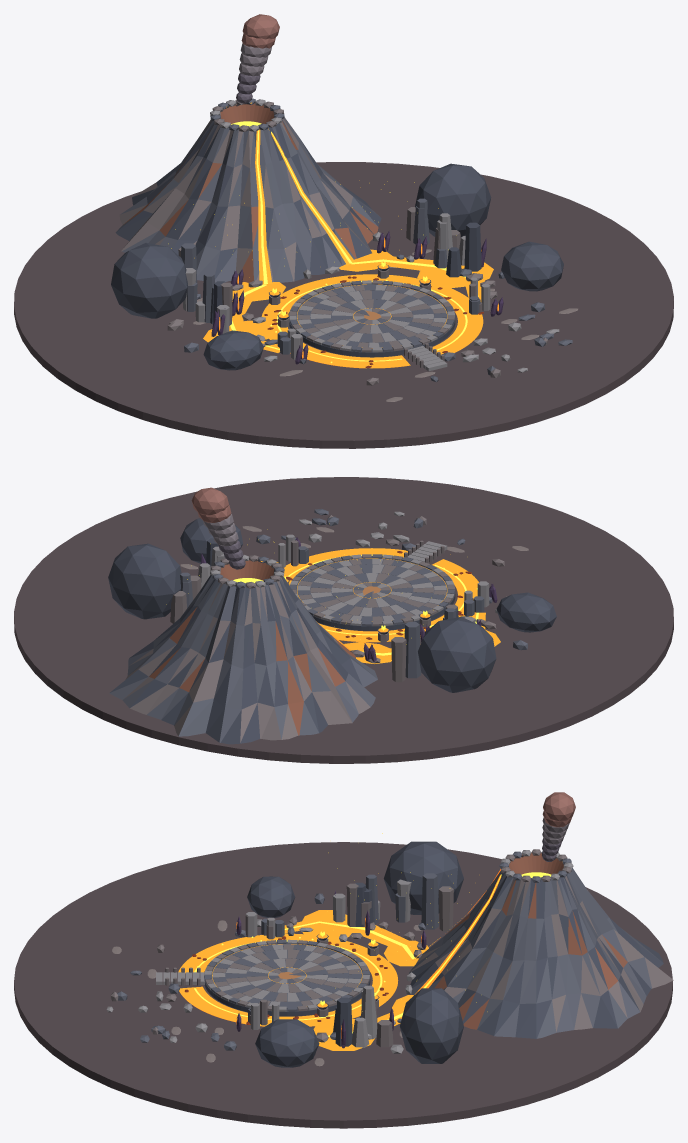
File: volcanic-arena.glb
The picture shows the model from 3 angles, top to bottom: view 1: azimuth 30°, elevation 25°; view 2: azimuth 150°, elevation 25°; view 3: azimuth 270°, elevation 25°; orthographic projection.
Parts seen in each view (by area): view 1: V01 Battlefield | Volcano | Charred earth, V02 Volcano | Volcano | Dark basalt, V04 Basalt formations | Volcano | Obsidian grey, V03 Lava rivers | Volcano | Molten orange, V01 Battlefield | Volcano | Dark basalt, V01 Battlefield | Volcano | Ash slate, V01 Battlefield | Volcano | Warm basalt, V04 Basalt formations | Volcano | Dark basalt, V04 Basalt formations | Volcano | Ash slate, V02 Volcano | Volcano | Molten orange, V05 Obsidian and debris | Volcano | Obsidian glass, V04 Basalt formations | Volcano | Warm basalt (+9 smaller); view 2: V01 Battlefield | Volcano | Charred earth, V02 Volcano | Volcano | Dark basalt, V04 Basalt formations | Volcano | Obsidian grey, V01 Battlefield | Volcano | Dark basalt, V01 Battlefield | Volcano | Ash slate, V01 Battlefield | Volcano | Warm basalt, V03 Lava rivers | Volcano | Molten orange, V04 Basalt formations | Volcano | Dark basalt, V04 Basalt formations | Volcano | Warm basalt, V04 Basalt formations | Volcano | Ash slate, V02 Volcano | Volcano | Smoke glow, V05 Obsidian and debris | Volcano | Dark basalt (+7 smaller); view 3: V01 Battlefield | Volcano | Charred earth, V02 Volcano | Volcano | Dark basalt, V04 Basalt formations | Volcano | Obsidian grey, V03 Lava rivers | Volcano | Molten orange, V01 Battlefield | Volcano | Dark basalt, V01 Battlefield | Volcano | Ash slate, V01 Battlefield | Volcano | Warm basalt, V04 Basalt formations | Volcano | Ash slate, V04 Basalt formations | Volcano | Warm basalt, V04 Basalt formations | Volcano | Dark basalt, V05 Obsidian and debris | Volcano | Dark basalt, V02 Volcano | Volcano | Smoke glow (+8 smaller).
Part boxes in pixels (x1,y1,x2,y2): V01 Battlefield | Volcano | Charred earth: [14, 162, 673, 448]; V02 Volcano | Volcano | Dark basalt: [115, 98, 381, 282]; V04 Basalt formations | Volcano | Obsidian grey: [111, 163, 563, 370]; V03 Lava rivers | Volcano | Molten orange: [203, 249, 493, 368]; V01 Battlefield | Volcano | Dark basalt: [290, 280, 454, 351]; V01 Battlefield | Volcano | Ash slate: [289, 280, 454, 371]; V01 Battlefield | Volcano | Warm basalt: [289, 280, 454, 367]; V04 Basalt formations | Volcano | Dark basalt: [181, 198, 480, 354]; V04 Basalt formations | Volcano | Ash slate: [183, 213, 490, 359]; V02 Volcano | Volcano | Molten orange: [226, 102, 354, 284]; V05 Obsidian and debris | Volcano | Obsidian glass: [211, 231, 503, 364]; V04 Basalt formations | Volcano | Warm basalt: [178, 207, 482, 348]; V01 Battlefield | Volcano | Charred earth: [14, 477, 673, 763]; V02 Volcano | Volcano | Dark basalt: [109, 556, 377, 744]; V04 Basalt formations | Volcano | Obsidian grey: [108, 518, 556, 692]; V01 Battlefield | Volcano | Dark basalt: [289, 554, 454, 626]; V01 Battlefield | Volcano | Ash slate: [290, 541, 454, 625]; V01 Battlefield | Volcano | Warm basalt: [292, 540, 454, 626]; V03 Lava rivers | Volcano | Molten orange: [276, 548, 500, 663]; V04 Basalt formations | Volcano | Dark basalt: [180, 546, 484, 678]; V04 Basalt formations | Volcano | Warm basalt: [170, 540, 472, 682]; V04 Basalt formations | Volcano | Ash slate: [198, 534, 489, 622]; V02 Volcano | Volcano | Smoke glow: [191, 487, 231, 522]; V05 Obsidian and debris | Volcano | Dark basalt: [256, 508, 527, 650]; V01 Battlefield | Volcano | Charred earth: [14, 842, 672, 1128]; V02 Volcano | Volcano | Dark basalt: [409, 851, 673, 1038]; V04 Basalt formations | Volcano | Obsidian grey: [247, 841, 463, 1067]; V03 Lava rivers | Volcano | Molten orange: [178, 910, 428, 1050]; V01 Battlefield | Volcano | Dark basalt: [204, 939, 369, 1011]; V01 Battlefield | Volcano | Ash slate: [156, 939, 369, 1011]; V01 Battlefield | Volcano | Warm basalt: [165, 940, 369, 1011]; V04 Basalt formations | Volcano | Ash slate: [245, 879, 411, 1047]; V04 Basalt formations | Volcano | Warm basalt: [245, 883, 453, 1047]; V04 Basalt formations | Volcano | Dark basalt: [248, 873, 438, 1021]; V05 Obsidian and debris | Volcano | Dark basalt: [117, 893, 425, 1050]; V02 Volcano | Volcano | Smoke glow: [542, 792, 575, 827].
Bounding box in the file's own units: 82 × 28.52 × 82.12.
